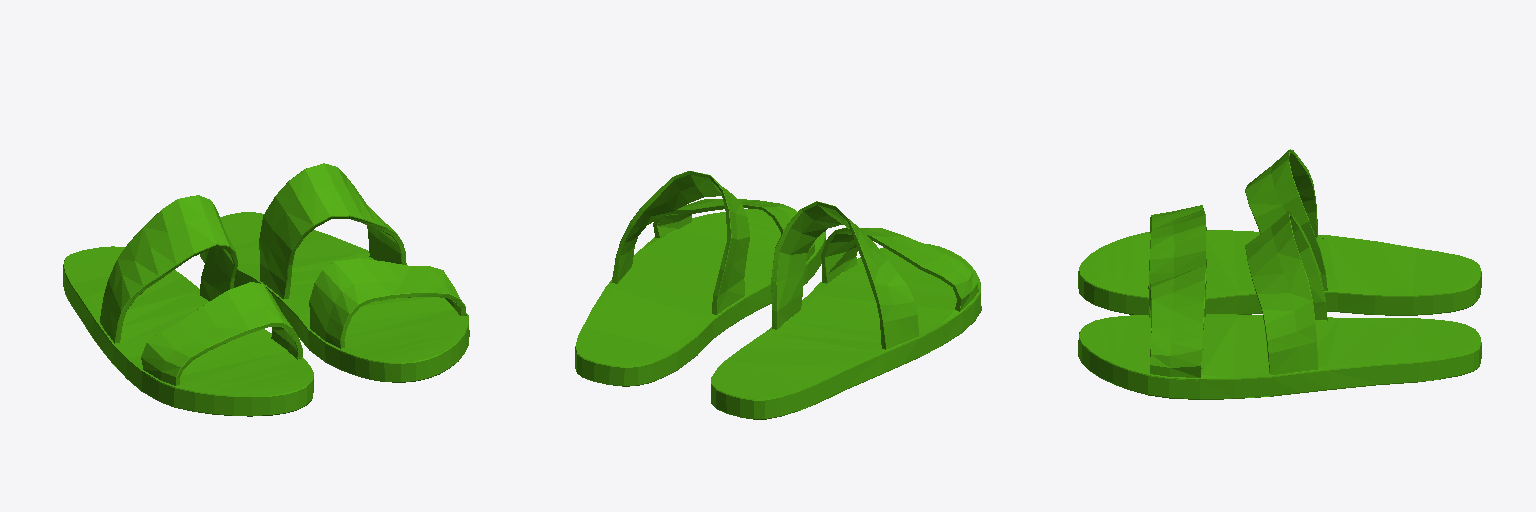
The model's file is shoe_floaters_1.obj.
The picture shows the model from 3 angles: view 1: azimuth 30°, elevation 25°; view 2: azimuth 150°, elevation 25°; view 3: azimuth 270°, elevation 25°; orthographic projection.
Parts seen in each view (by area): view 1: Mesh4, Mesh009, Mesh2, Mesh011, Mesh1, Mesh012; view 2: Mesh4, Mesh009, Mesh2, Mesh011, Mesh1, Mesh012; view 3: Mesh009, Mesh4, Mesh011, Mesh012, Mesh2, Mesh1.
Boxes of the visible parts, x1,y1,x2,y2 form: Mesh4: [63, 246, 313, 416]; Mesh009: [200, 212, 469, 382]; Mesh2: [100, 195, 237, 342]; Mesh011: [259, 163, 406, 298]; Mesh1: [141, 282, 302, 385]; Mesh012: [309, 258, 466, 348]; Mesh4: [711, 243, 981, 419]; Mesh009: [575, 209, 825, 386]; Mesh2: [771, 201, 918, 349]; Mesh011: [612, 171, 749, 314]; Mesh1: [821, 227, 978, 311]; Mesh012: [653, 199, 814, 261]; Mesh009: [1078, 314, 1481, 399]; Mesh4: [1078, 230, 1481, 315]; Mesh011: [1245, 211, 1327, 374]; Mesh012: [1148, 265, 1206, 377]; Mesh2: [1245, 149, 1327, 290]; Mesh1: [1148, 205, 1206, 288].
Bounding box in the file's own units: 17.36 × 7.65 × 19.64.